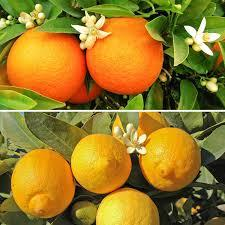orange: (9, 19, 101, 106), (87, 13, 176, 89), (13, 147, 89, 225), (76, 137, 144, 195), (142, 131, 204, 186), (102, 193, 168, 225)
